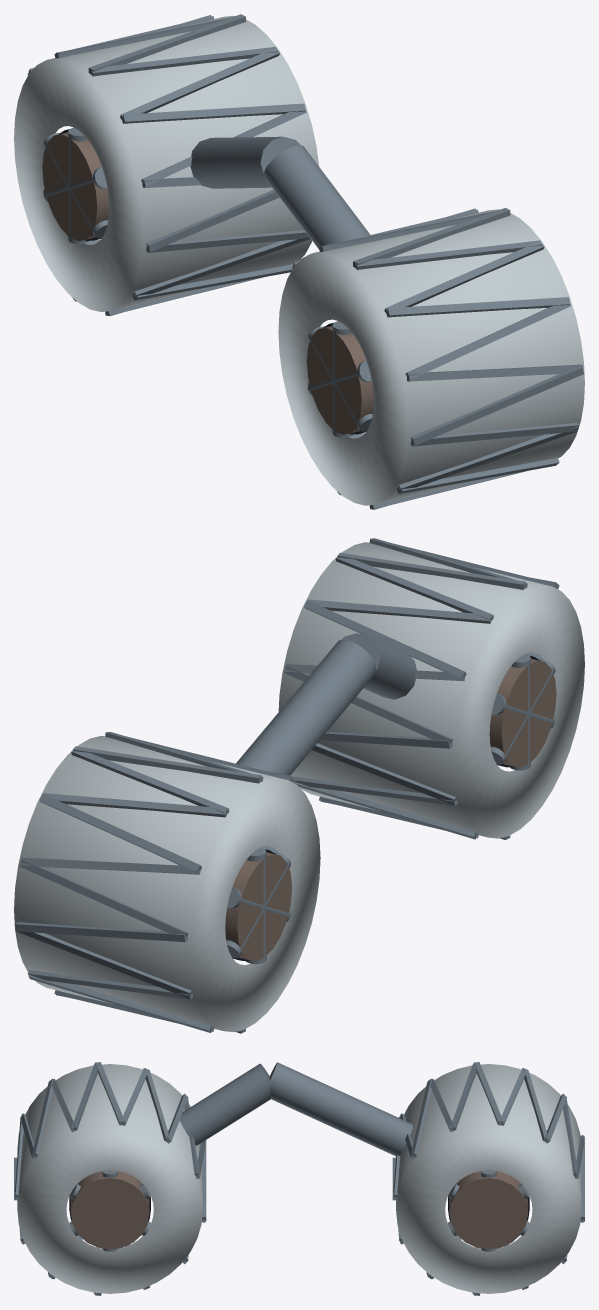
File: curiosity_mobility.rocker_right.bogie.glb
The picture shows the model from 3 angles, top to bottom: view 1: azimuth 30°, elevation 25°; view 2: azimuth 150°, elevation 25°; view 3: azimuth 270°, elevation 25°; orthographic projection. The views are drawn at different scales.
Parts seen in each view (by area): view 1: curiosity_mobility.rocker_right.bogie.axle_middle.wheel_midd (×3), curiosity_mobility.rocker_right.bogie.steer_rear.wheel_rear. (×3), curiosity_mobility.rocker_right.bogie.mesh_Machined_steel; view 2: curiosity_mobility.rocker_right.bogie.steer_rear.wheel_rear. (×3), curiosity_mobility.rocker_right.bogie.axle_middle.wheel_midd (×3), curiosity_mobility.rocker_right.bogie.mesh_Machined_steel; view 3: curiosity_mobility.rocker_right.bogie.steer_rear.wheel_rear. (×3), curiosity_mobility.rocker_right.bogie.axle_middle.wheel_midd (×3), curiosity_mobility.rocker_right.bogie.mesh_Machined_steel.
Boxes of the visible parts, box(x1,y1,x2,y2) form: curiosity_mobility.rocker_right.bogie.axle_middle.wheel_midd (×3): box(278, 208, 584, 509); curiosity_mobility.rocker_right.bogie.steer_rear.wheel_rear. (×3): box(14, 14, 319, 315); curiosity_mobility.rocker_right.bogie.mesh_Machined_steel: box(190, 136, 370, 249); curiosity_mobility.rocker_right.bogie.steer_rear.wheel_rear. (×3): box(14, 732, 320, 1033); curiosity_mobility.rocker_right.bogie.axle_middle.wheel_midd (×3): box(278, 538, 584, 839); curiosity_mobility.rocker_right.bogie.mesh_Machined_steel: box(236, 633, 416, 775); curiosity_mobility.rocker_right.bogie.steer_rear.wheel_rear. (×3): box(392, 1062, 584, 1295); curiosity_mobility.rocker_right.bogie.axle_middle.wheel_midd (×3): box(14, 1062, 206, 1295); curiosity_mobility.rocker_right.bogie.mesh_Machined_steel: box(179, 1062, 412, 1156).
Size of the model in its own units: 0.44 by 0.5644 by 1.54.
